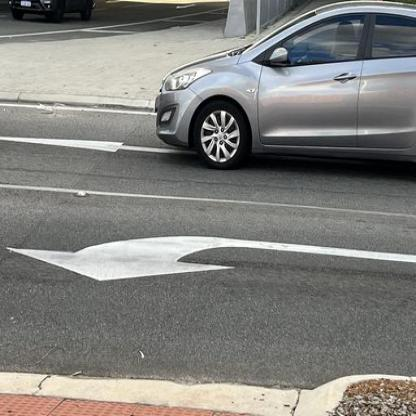Tire: (192, 98, 251, 170)
